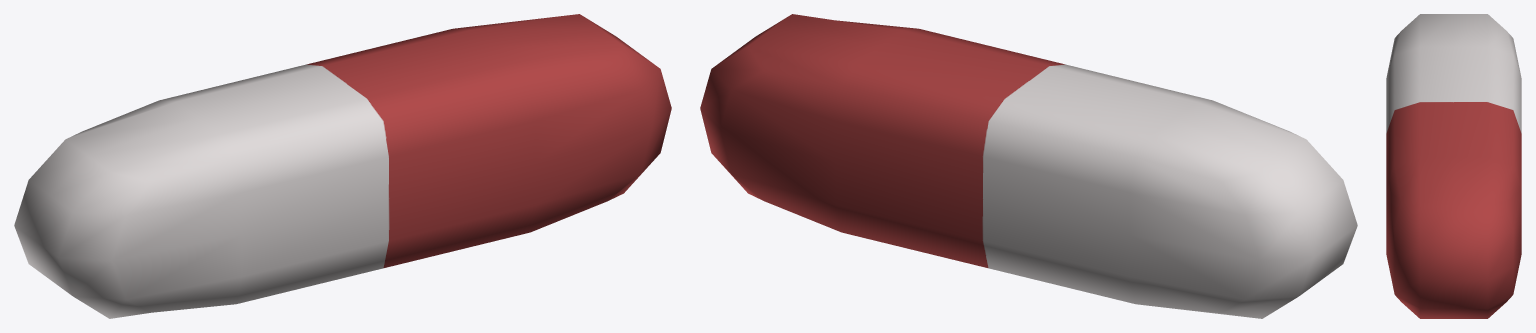
The model's file is Pildora.FBX.
3 renders of one model, left to right at view 1: azimuth 30°, elevation 25°; view 2: azimuth 150°, elevation 25°; view 3: azimuth 270°, elevation 25°, orthographic. The views are drawn at different scales.
Parts seen in each view (by area): view 1: Pildora; view 2: Pildora; view 3: Pildora.
Part boxes in pixels (box(x1,y1,x2,y2)): Pildora: box(14, 14, 671, 318); Pildora: box(700, 14, 1357, 318); Pildora: box(1386, 14, 1521, 318).
Size of the model in its own units: 31.31 by 8.2 by 7.82.
Materials: 1 (1 with a texture image).
